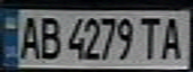2: (81, 14, 103, 61)
4: (63, 14, 84, 61)
7: (100, 15, 118, 61)
9: (115, 14, 139, 61)
A: (157, 14, 187, 61), (15, 12, 42, 61)
B: (36, 14, 63, 61)
T: (136, 14, 163, 61)
